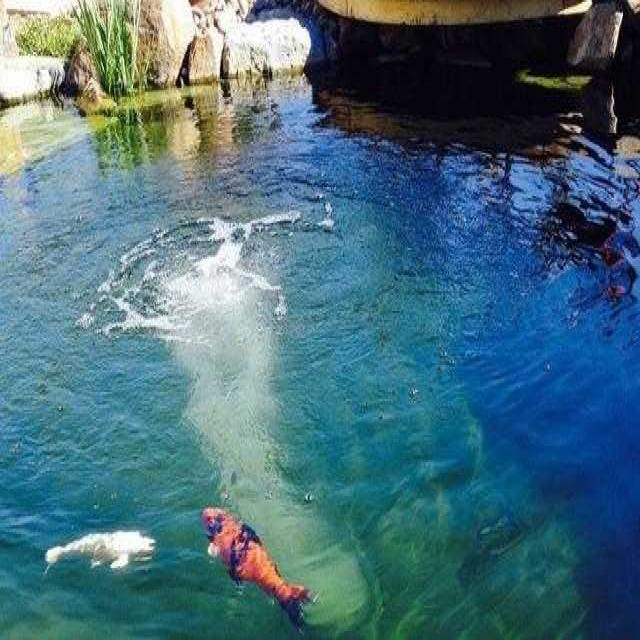Ponds: (1, 1, 640, 638)
